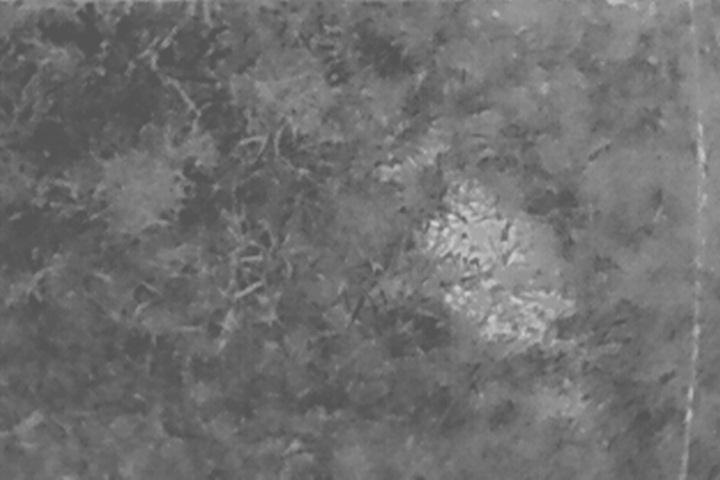landmine: (438, 216, 507, 264)
